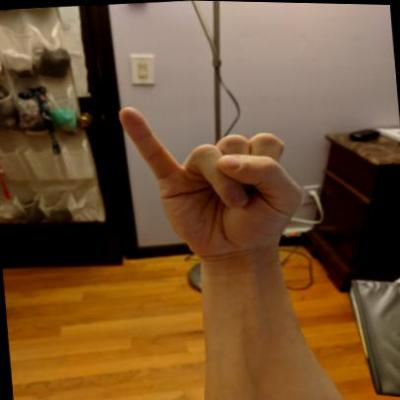hand: (113, 90, 314, 270)
